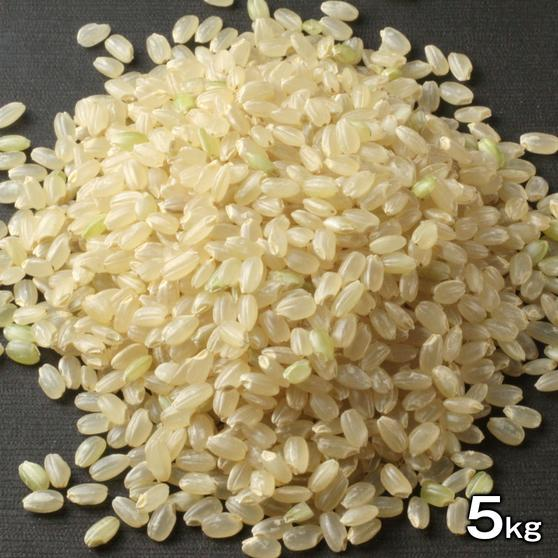rice: (104, 84, 454, 370)
